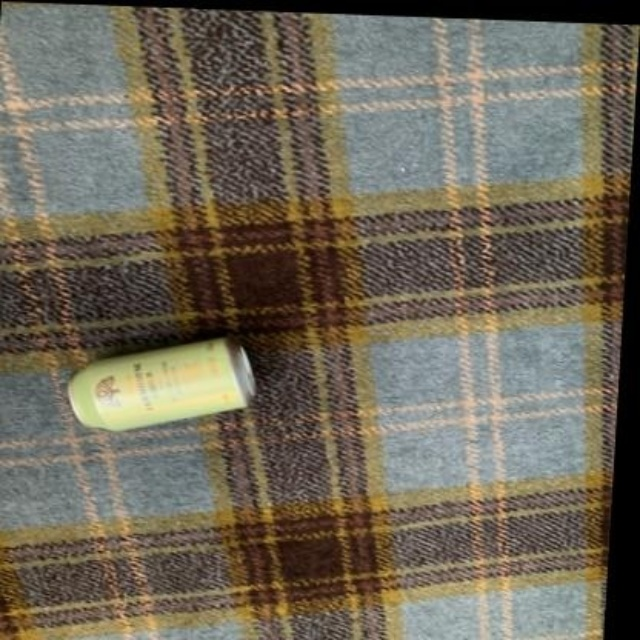trash: (68, 338, 254, 429)
